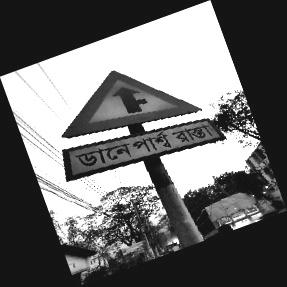Side-road-right: (61, 71, 225, 183)
